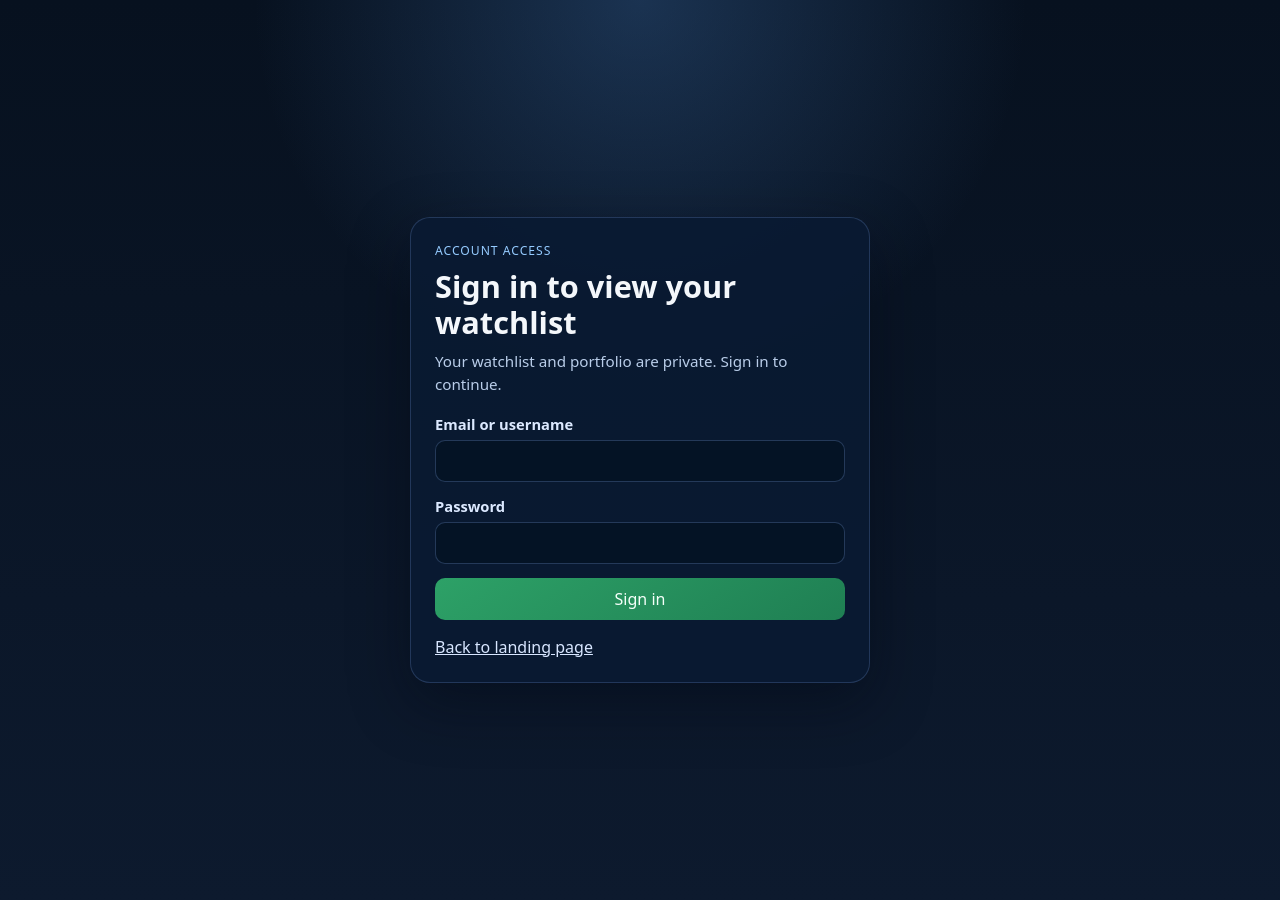
Scenario: App › logs in and returns to the original protected route with watchlist data visible
expect the heading "Sign in to view your watchlist" is shown: met, box 435,265 -> 736,343
Type "demo-user" into the field labelled "Email or username" at point(640, 461), box 435,440 -> 845,482
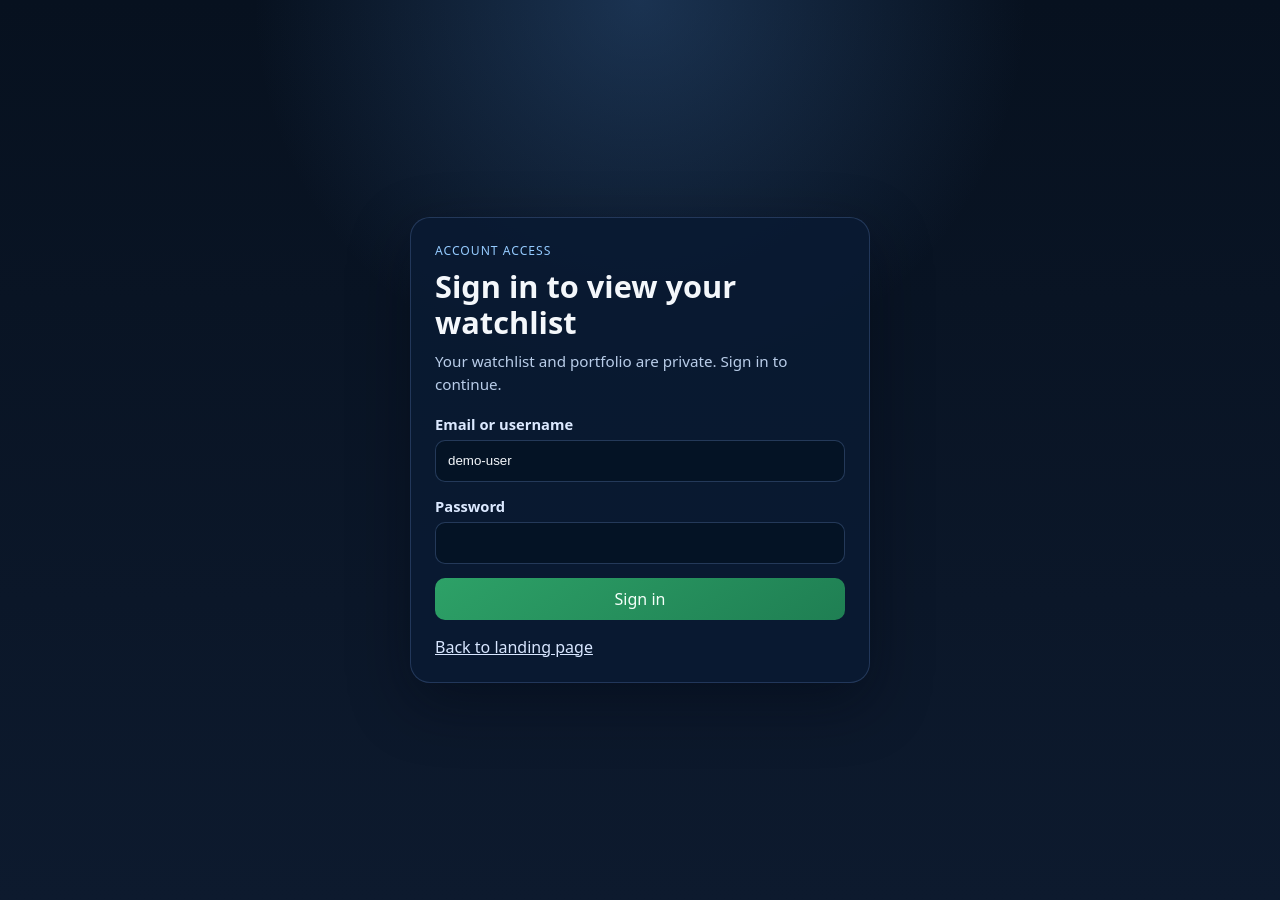
Type "trading-pass" into the password field labelled "Password" at point(640, 543), box 435,522 -> 845,564
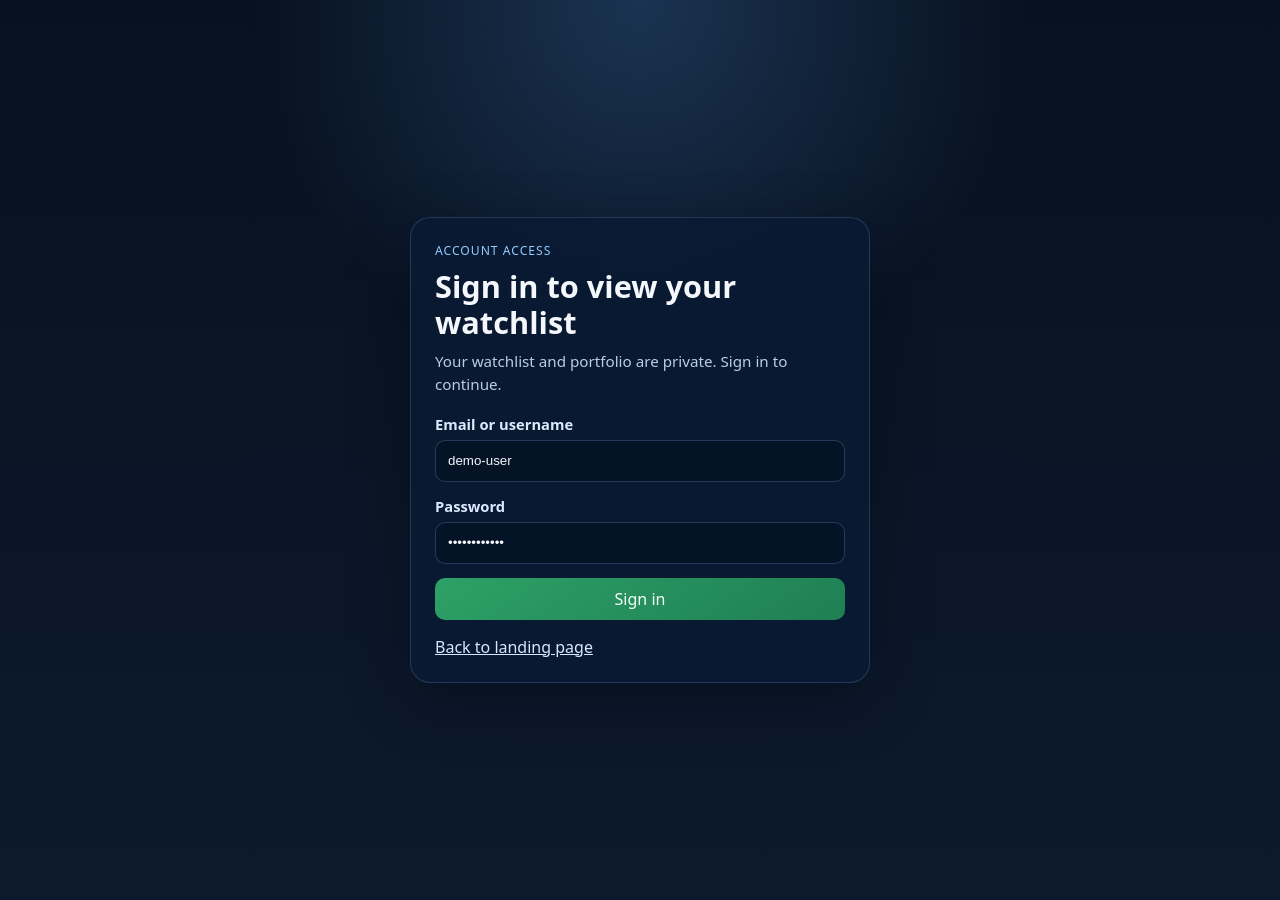
Click the button "Sign in" at point(640, 599), box 435,578 -> 845,620
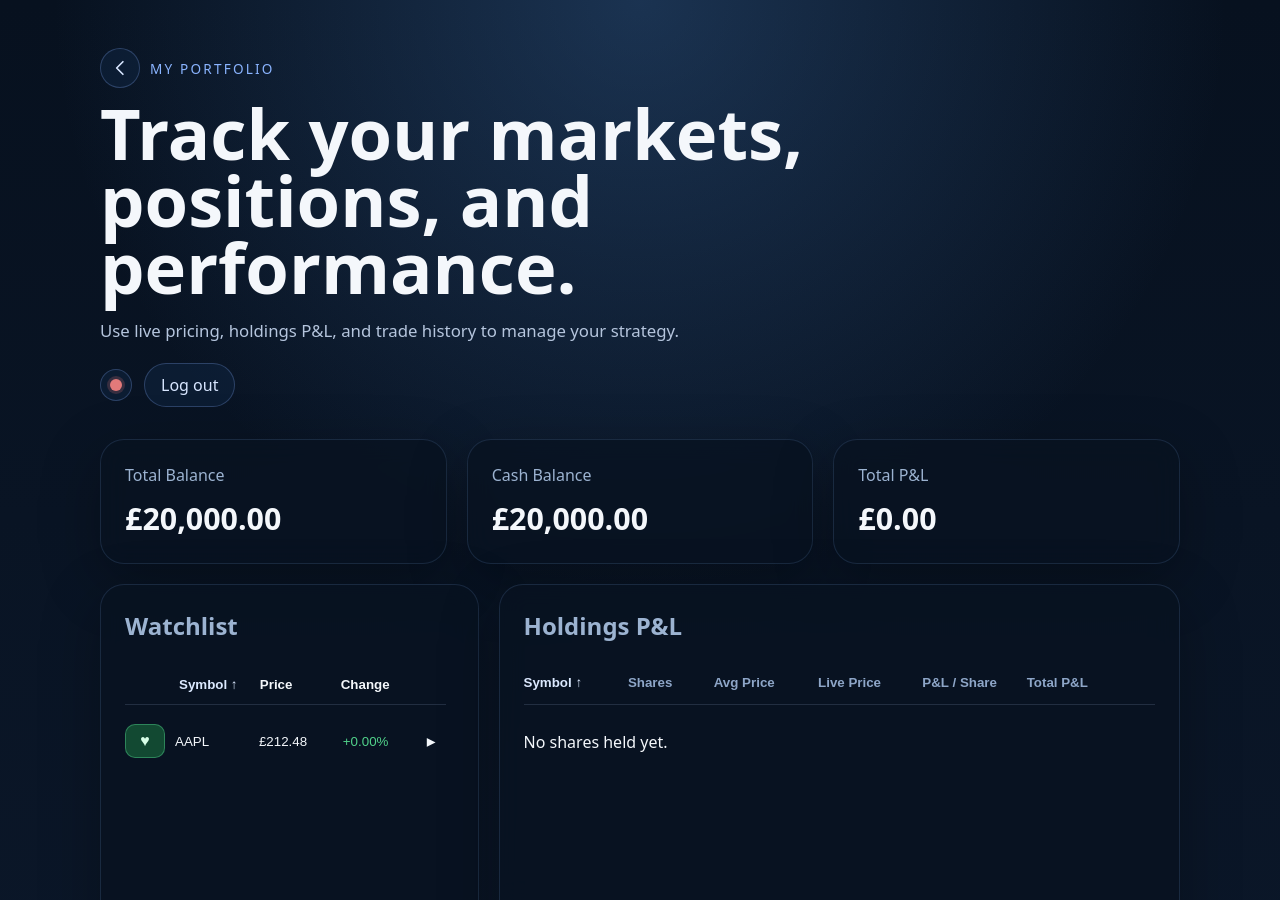
expect the text "My Portfolio" is shown: met, box 150,58 -> 274,78
expect the text "AAPL" is shown: met, box 175,734 -> 209,749
